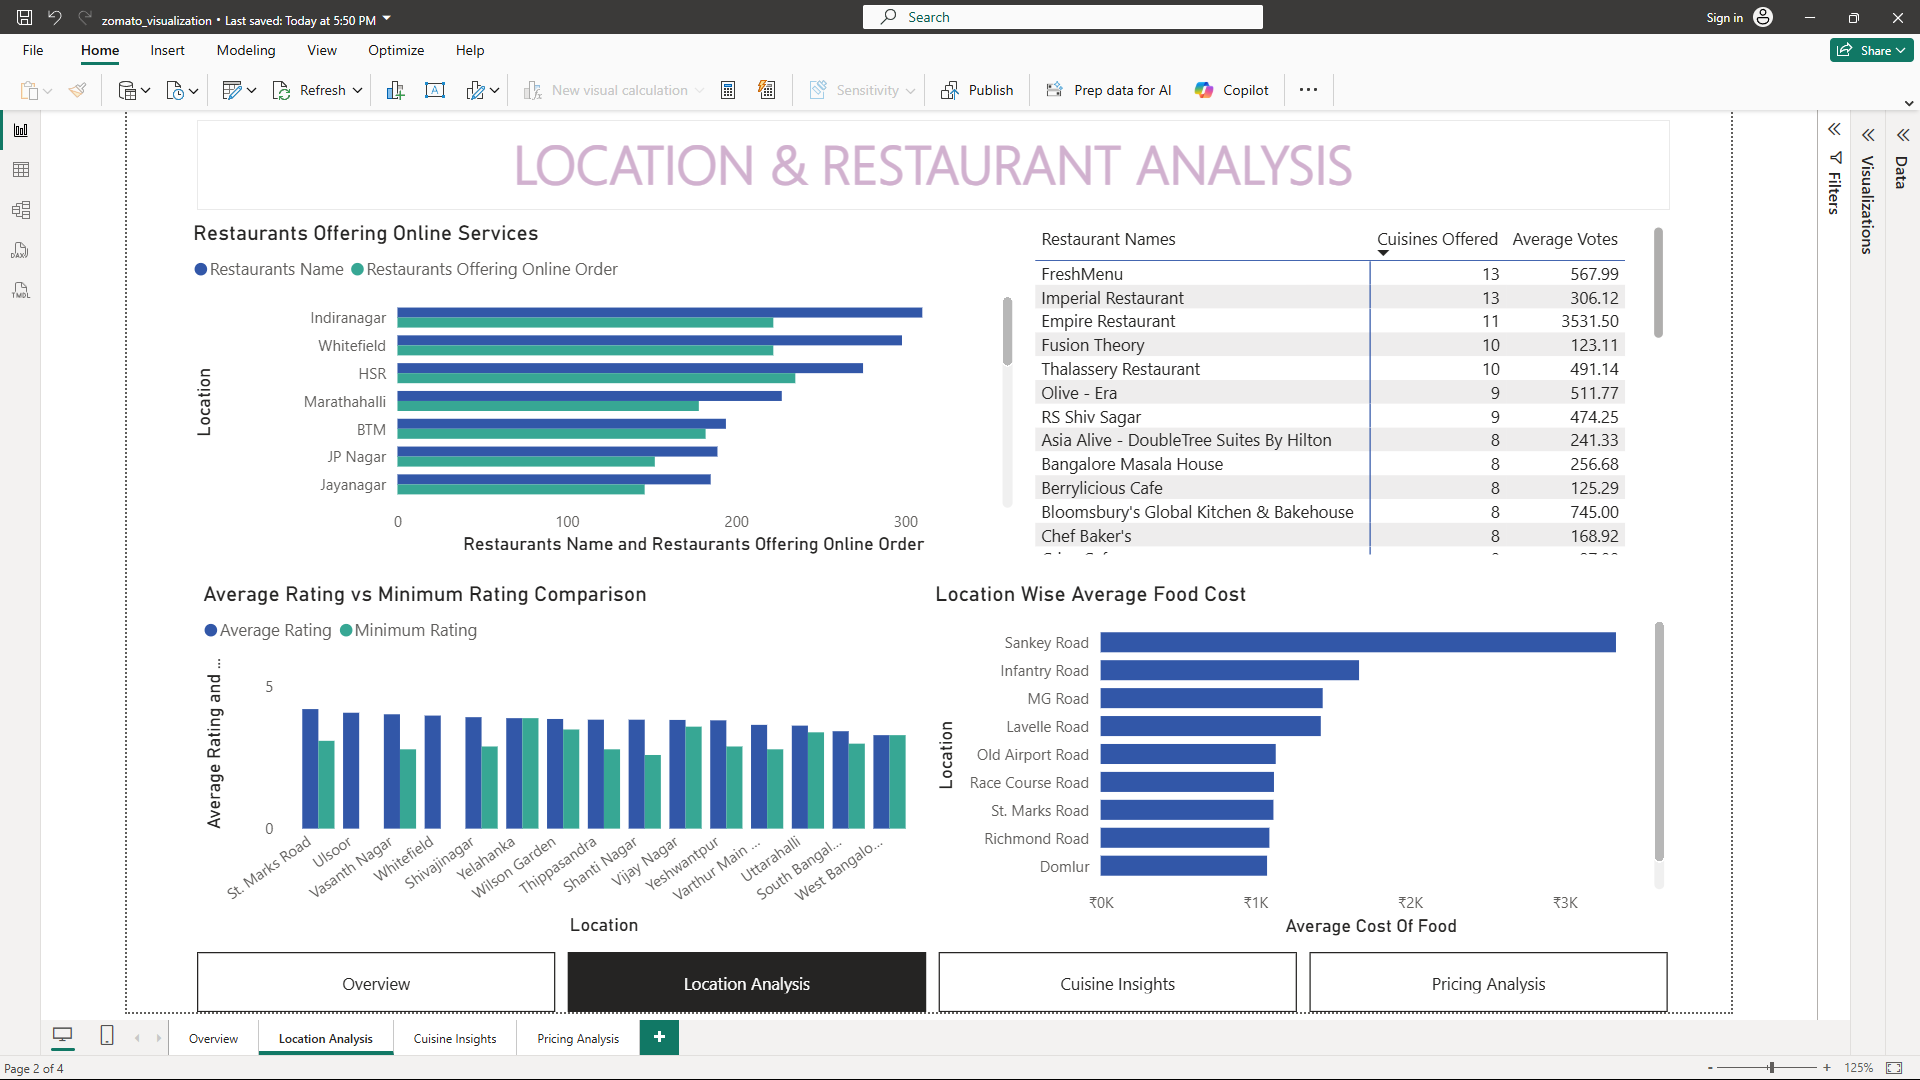

This screenshot's page, from the dashboard's own definition file:
{"tool":"powerbi","page":{"name":"Location Analysis","canvas":[1280,720],"ordinal":1},"visuals":[{"type":"clusteredBarChart","title":"Restaurants Offering Online Services","fields":{"Category":["fact_table.location"],"Y":["Count(fact_table.name)","fact_table.Rest. with online order"]},"box":[48,88,664,272],"z":0},{"type":"clusteredColumnChart","title":"Average Rating vs Minimum Rating Comparison ","fields":{"Category":["fact_table.location"],"Y":["Avg(fact_table.ratings(out of 5))","Min(fact_table.ratings(out of 5))"]},"box":[56,376,584,288],"z":1000},{"type":"clusteredBarChart","title":"Location Wise Average Food Cost","fields":{"Category":["fact_table.location"],"Y":["Avg(fact_table.cost(2 People))"]},"box":[640,376,592,288],"z":2000},{"type":"pageNavigator","box":[56,672,1176,48],"z":3000},{"type":"textbox","box":[56,8,1176,72],"z":4000},{"type":"pivotTable","fields":{"Rows":["fact_table.name"],"Values":["Count(fact_table.cuisines)","Avg(fact_table.votes)"]},"box":[720,88,512,272],"z":4001}]}

Visuals, with their boxes on the page's 1280x720 design canvas (x1, y1, x2, y2). These are canvas units, not pixel positions in the 1920x1080 screenshot, which may show the page scaled, cropped or inside an application window:
"Restaurants Offering Online Services" clusteredBarChart: [48, 88, 712, 360]
"Average Rating vs Minimum Rating Comparison " clusteredColumnChart: [56, 376, 640, 664]
"Location Wise Average Food Cost" clusteredBarChart: [640, 376, 1232, 664]
pageNavigator: [56, 672, 1232, 720]
textbox: [56, 8, 1232, 80]
pivotTable - fact_table.name x Count(fact_table.cuisines): [720, 88, 1232, 360]
